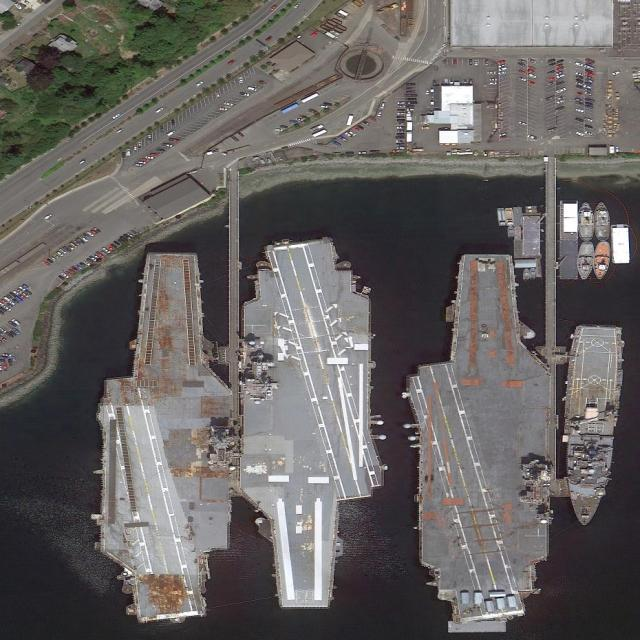Aircraft Carrier: (233, 235, 390, 610), (404, 253, 555, 633), (93, 252, 236, 622)
Dock: (536, 157, 562, 363), (219, 169, 242, 392)
Landing: (555, 321, 628, 529)
Other Warship: (594, 202, 612, 242), (577, 202, 595, 241), (576, 242, 594, 280), (593, 241, 611, 279)
